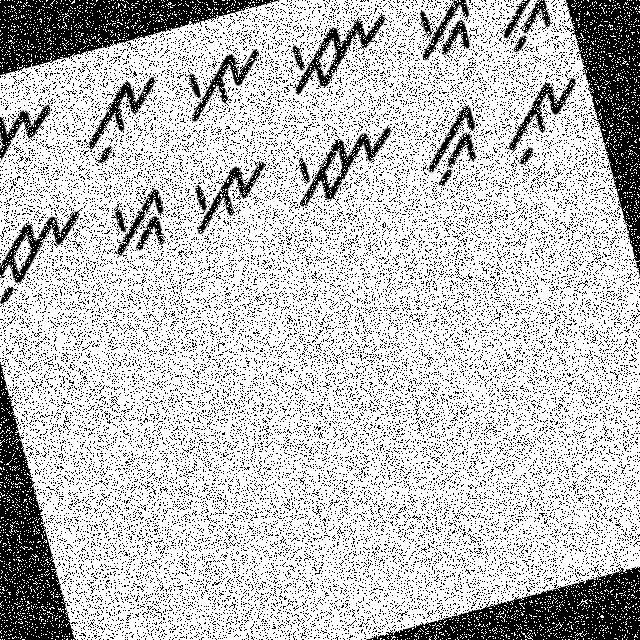e: (160, 26, 276, 128), (176, 148, 282, 248)
ngge: (91, 175, 178, 270), (394, 0, 486, 69)
nggu: (405, 88, 502, 202), (474, 0, 570, 66)
nje: (270, 111, 410, 218), (271, 0, 404, 106)
nju: (0, 193, 102, 315), (0, 99, 69, 207)
u: (489, 68, 598, 180), (68, 68, 179, 173)
